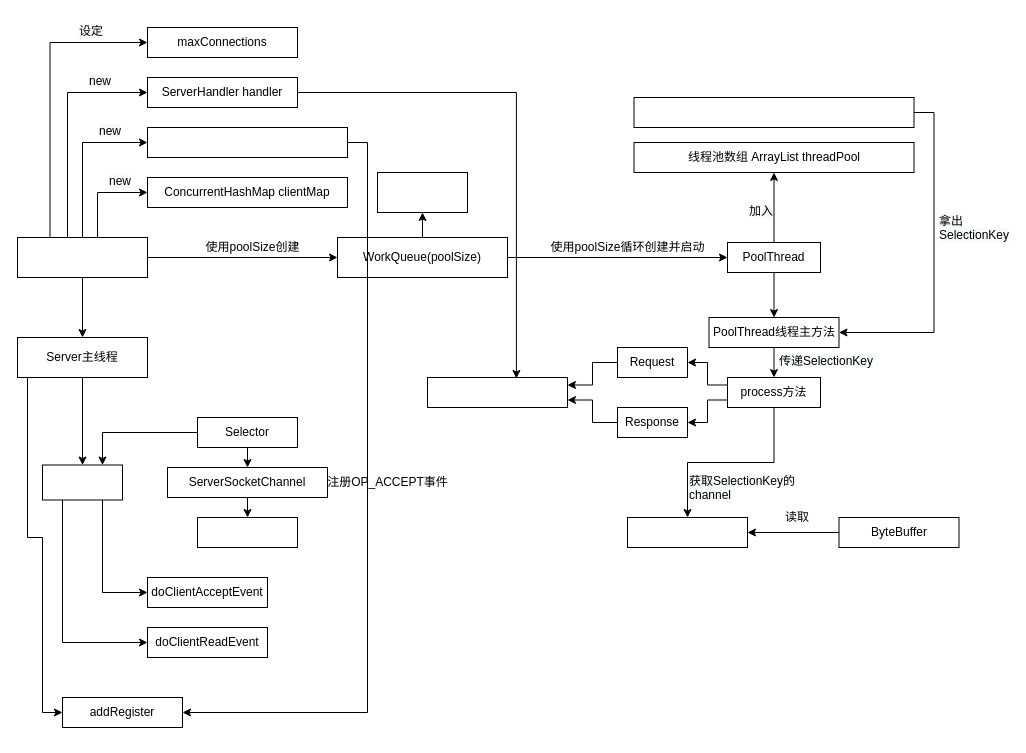
Some shapes in this 1026 by 753 pixel diagram are drawn without their labels. The shapes that lost their labels are listed below. From the top down, each one's centre as x and y in pixels, then its label:
the point at 773,112: 任务队列 LinkedBlockingQueue taskQueue
the point at 247,142: ConcurrentLinkedQueue wpool
the point at 422,192: workQueue
the point at 82,257: Server(port)
the point at 497,392: handler.OnDataArrival()
the point at 82,482: dispatch
the point at 247,532: ServerSocket
the point at 687,532: SocketChannel
